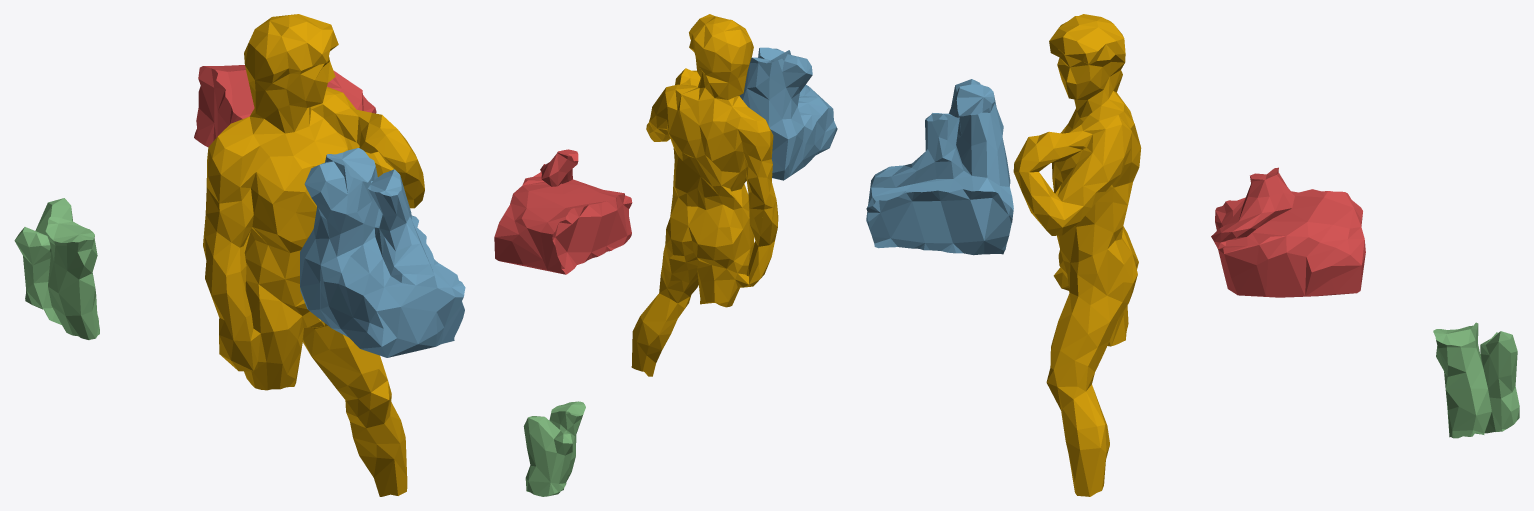
The model's file is fractured_31_4pcs_transformed.glb.
3 views of the same model, side by side, from view 1: azimuth 30°, elevation 25°; view 2: azimuth 150°, elevation 25°; view 3: azimuth 270°, elevation 25° (orthographic). The views are drawn at different scales.
Visible parts, largest first — view 1: piece_0.obj, piece_2.obj, piece_3.obj, piece_1.obj; view 2: piece_0.obj, piece_1.obj, piece_2.obj, piece_3.obj; view 3: piece_0.obj, piece_2.obj, piece_1.obj, piece_3.obj.
Part boxes in pixels (x1,y1,x2,y2): piece_0.obj: (203, 14, 424, 496); piece_2.obj: (300, 148, 465, 357); piece_3.obj: (14, 198, 99, 339); piece_1.obj: (194, 65, 376, 147); piece_0.obj: (631, 14, 778, 376); piece_1.obj: (494, 149, 632, 274); piece_2.obj: (739, 47, 837, 180); piece_3.obj: (523, 401, 585, 496); piece_0.obj: (1013, 14, 1141, 496); piece_2.obj: (866, 79, 1013, 255); piece_1.obj: (1211, 167, 1365, 297); piece_3.obj: (1433, 322, 1519, 438).
Size of the model in its own units: 0.4197 by 0.8229 by 1.12.
